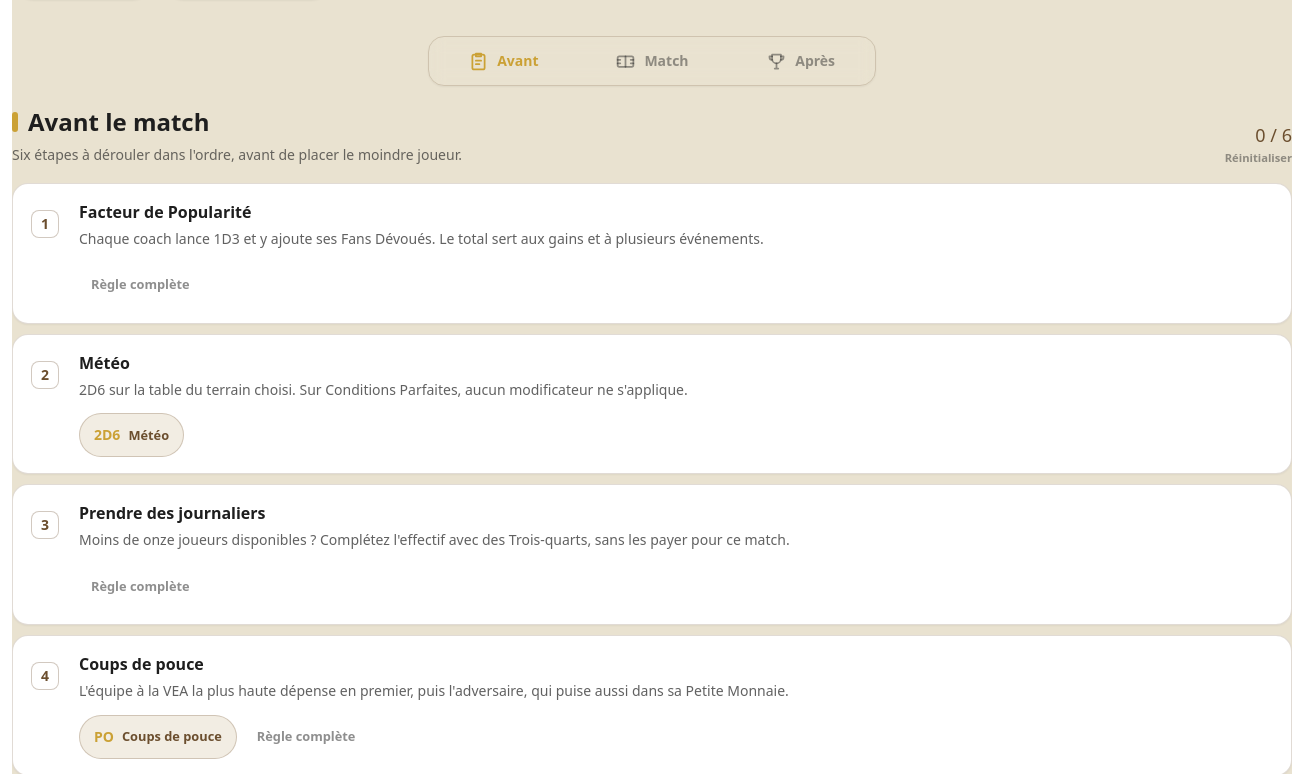
Scenario: AideDeJeuClient › réinitialise la checklist d'avant-match
(page scrolled)
Click the button named "Cocher".
click(45, 375)  # box [23, 353, 67, 397]
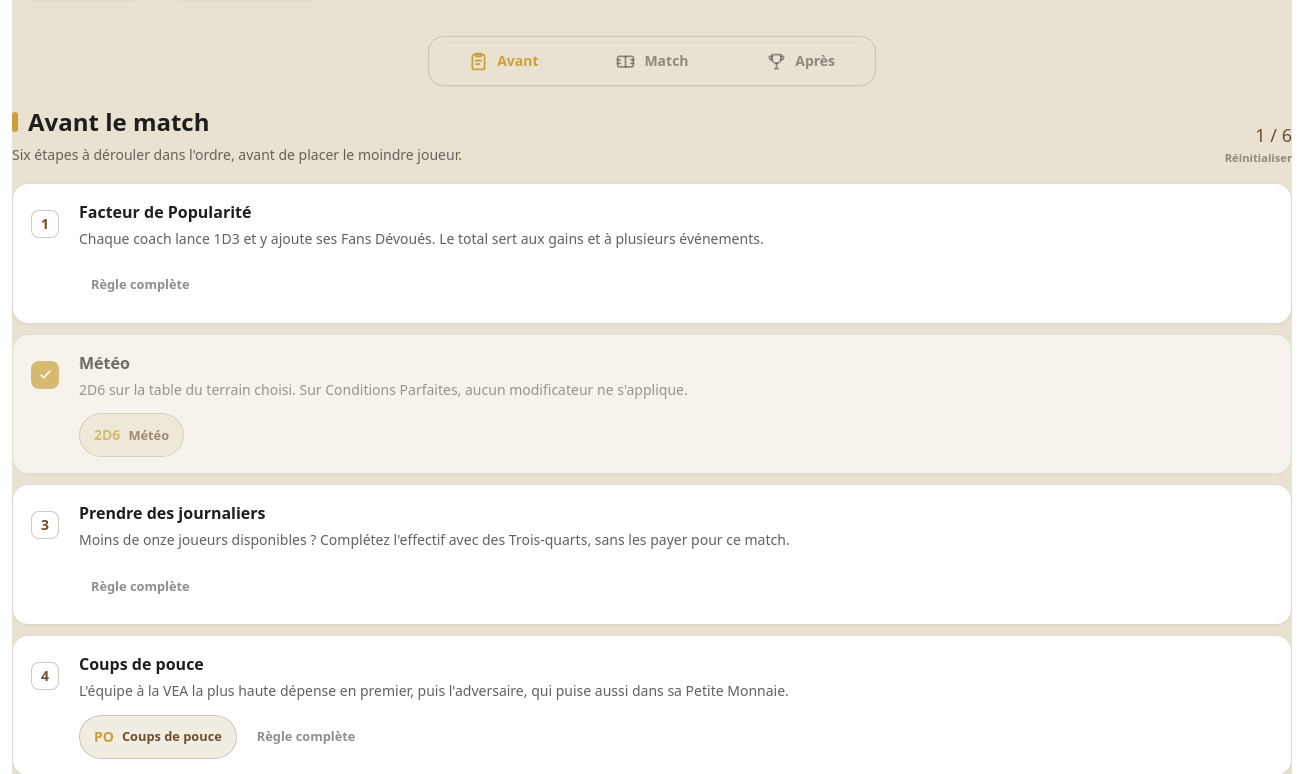
Click the button "Réinitialiser".
click(1258, 159)  # box [1225, 150, 1292, 167]
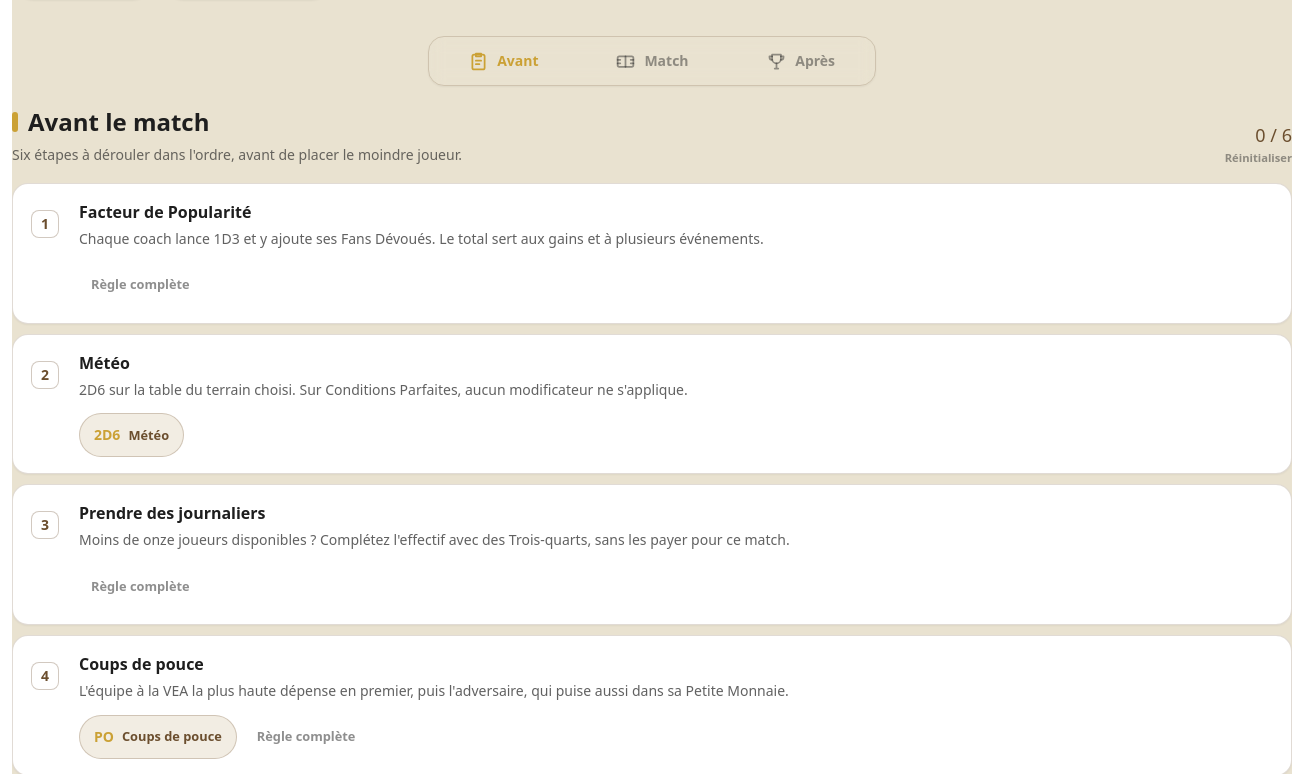
Result: the text "0 / 6" is shown at [1255, 126, 1292, 144]
